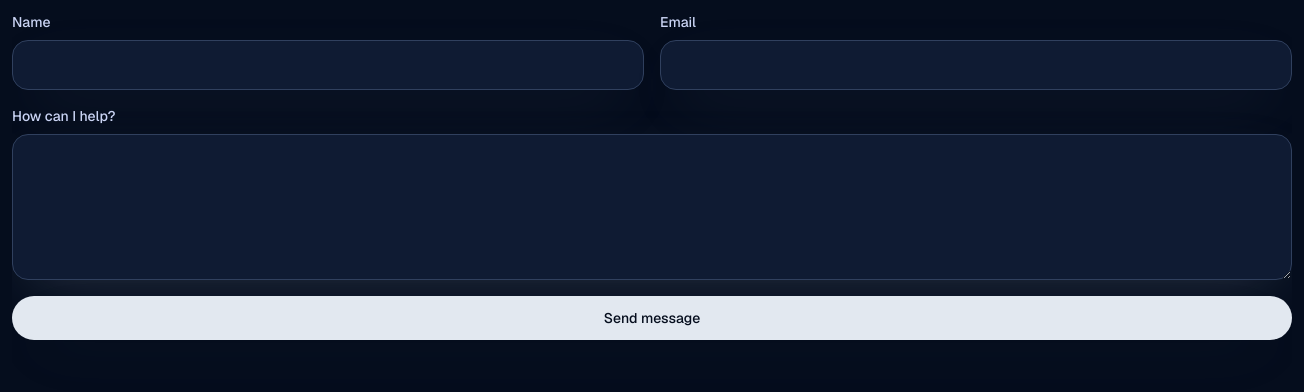
Test case: ContactForm › handles submission errors
Type "John Doe" into the field labelled "Name" at (328, 65), box [12,40,644,90]
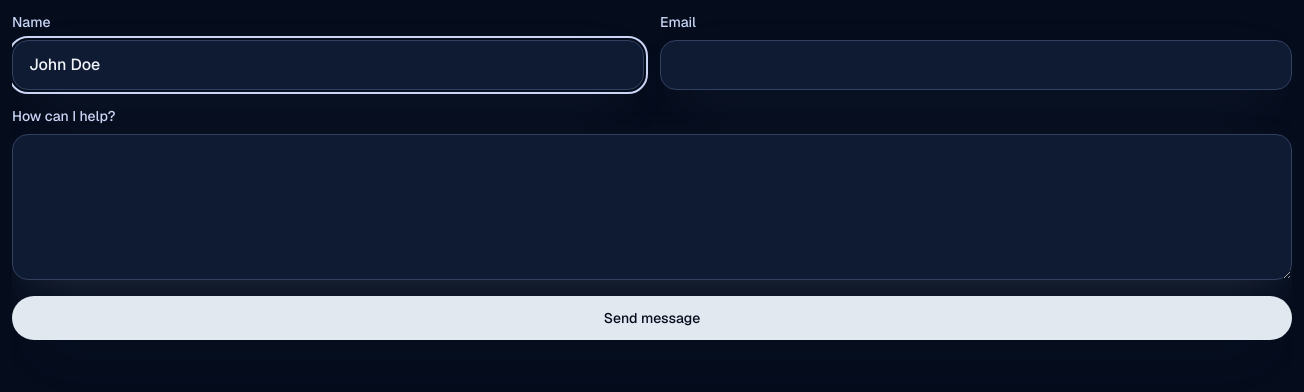
Type "john@example.com" into the field labelled "Email" at (976, 65), box [660,40,1292,90]
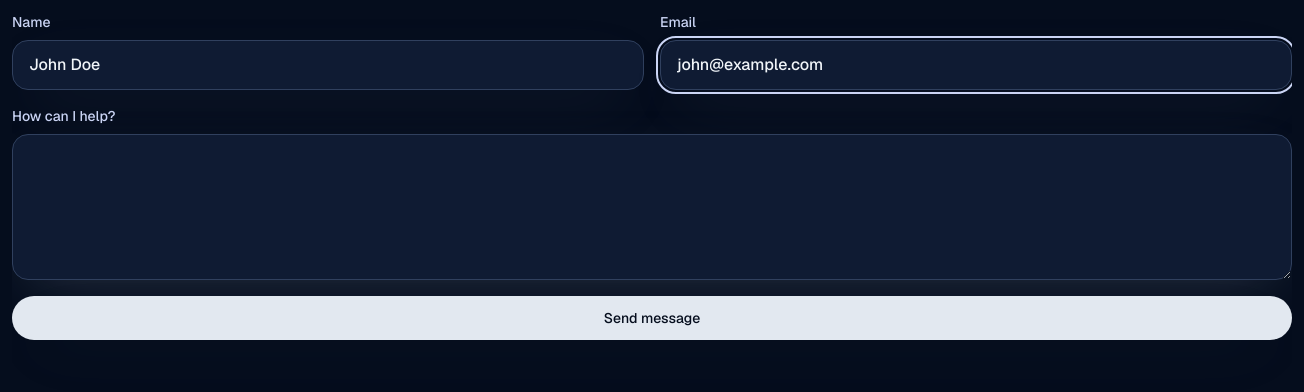
Type "This is a test message." into the text box labelled "How can I help?" at (652, 207), box [12,134,1292,280]
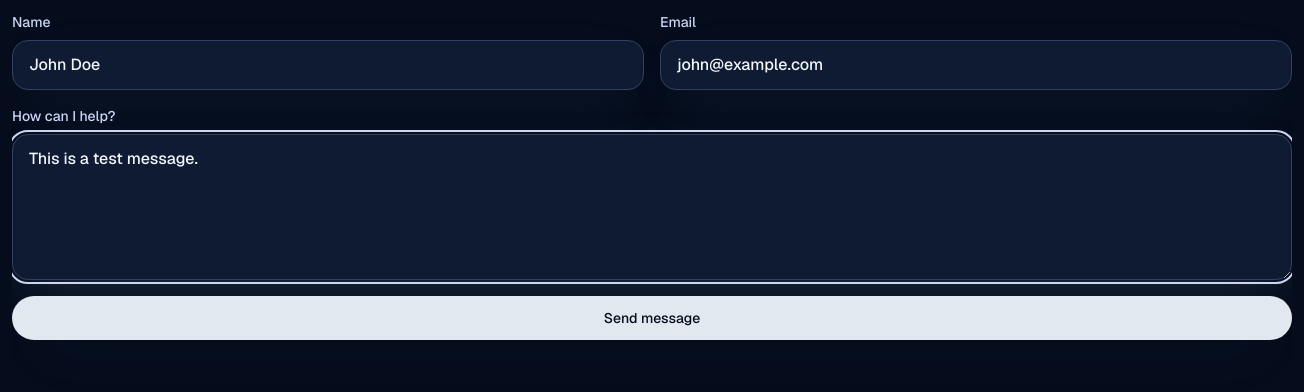
Click the button "Send message" at (652, 318), box [12,296,1292,340]
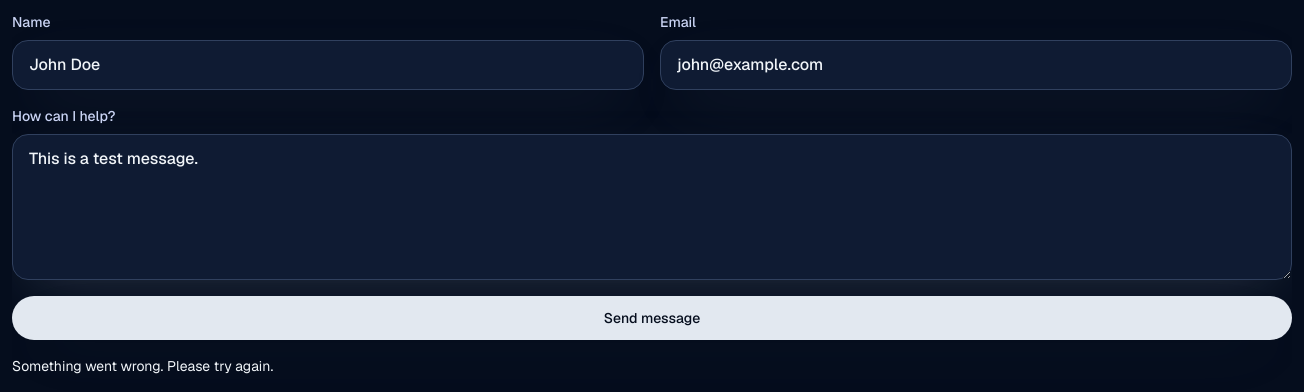
Expected: the text "Something went wrong. Please try again." is shown, [12,357,273,375]
